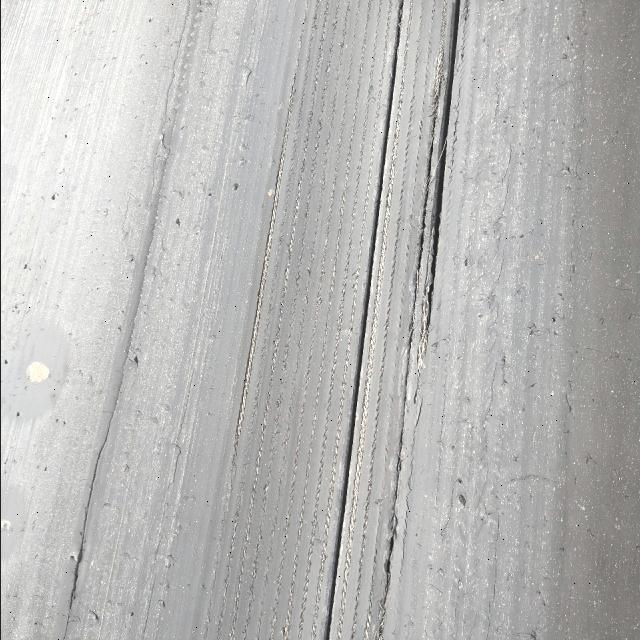Tear: (319, 0, 408, 638), (372, 49, 446, 636), (418, 0, 466, 339), (58, 436, 120, 640)
Wear: (188, 0, 398, 639)
